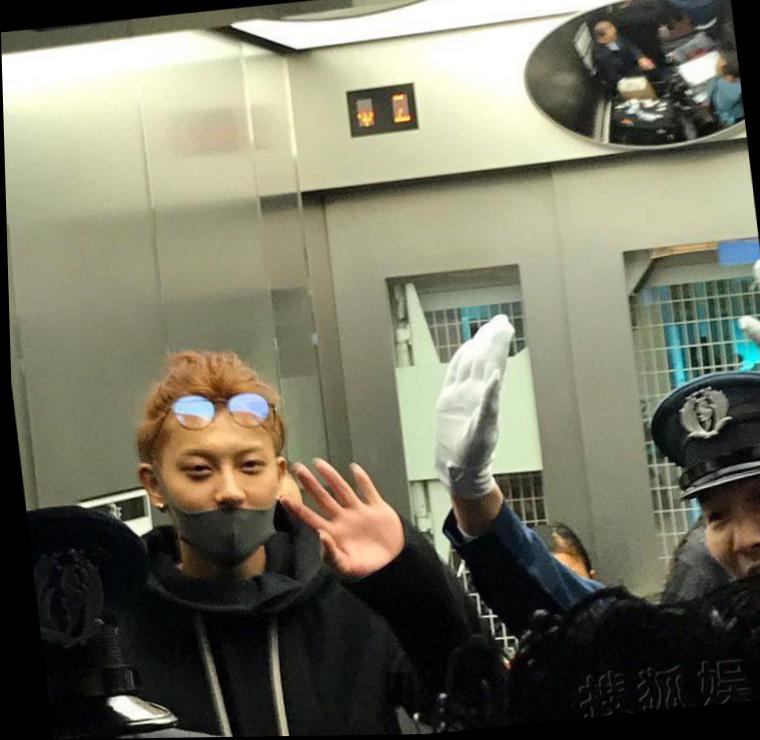NONE: (692, 469, 760, 617)
WRONG: (162, 423, 278, 569)
